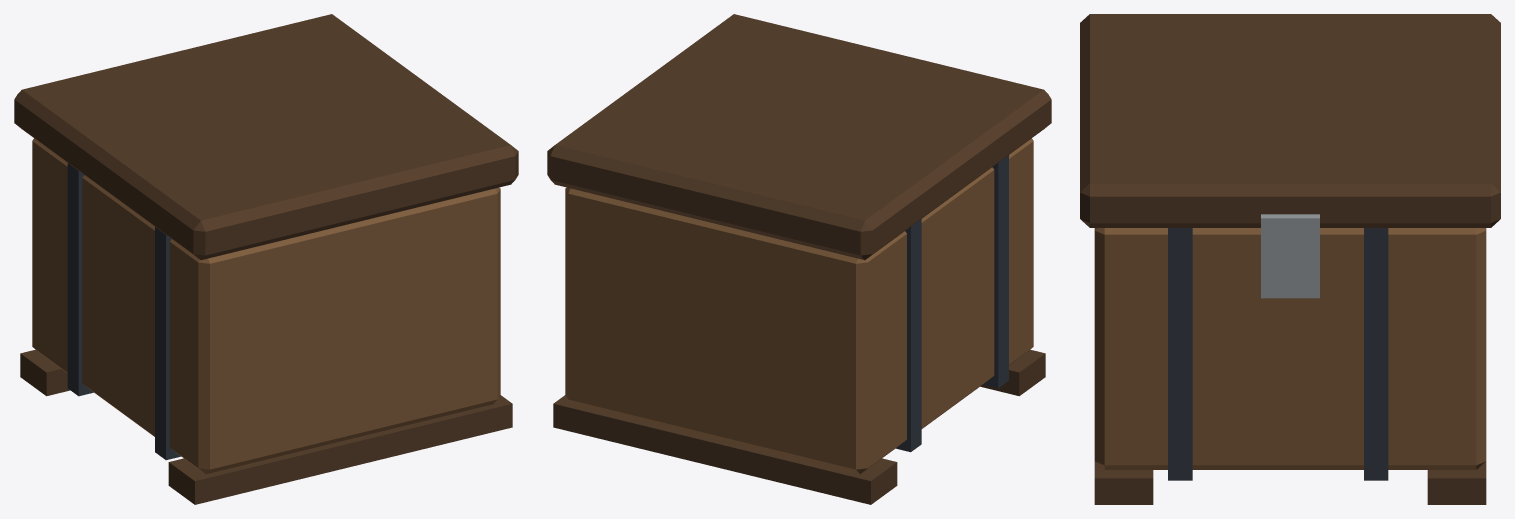
File: wooden_chest.obj
3 views of the same model, side by side, from view 1: azimuth 30°, elevation 25°; view 2: azimuth 150°, elevation 25°; view 3: azimuth 270°, elevation 25° (orthographic). The views are drawn at different scales.
Parts seen in each view (by area): view 1: body; view 2: body; view 3: body.
Boxes of the visible parts, box(x1,y1,x2,y2) form: body: box(14, 14, 518, 504); body: box(547, 14, 1051, 504); body: box(1080, 14, 1500, 504).
Size of the model in its own units: 0.88 by 0.72 by 0.86.
